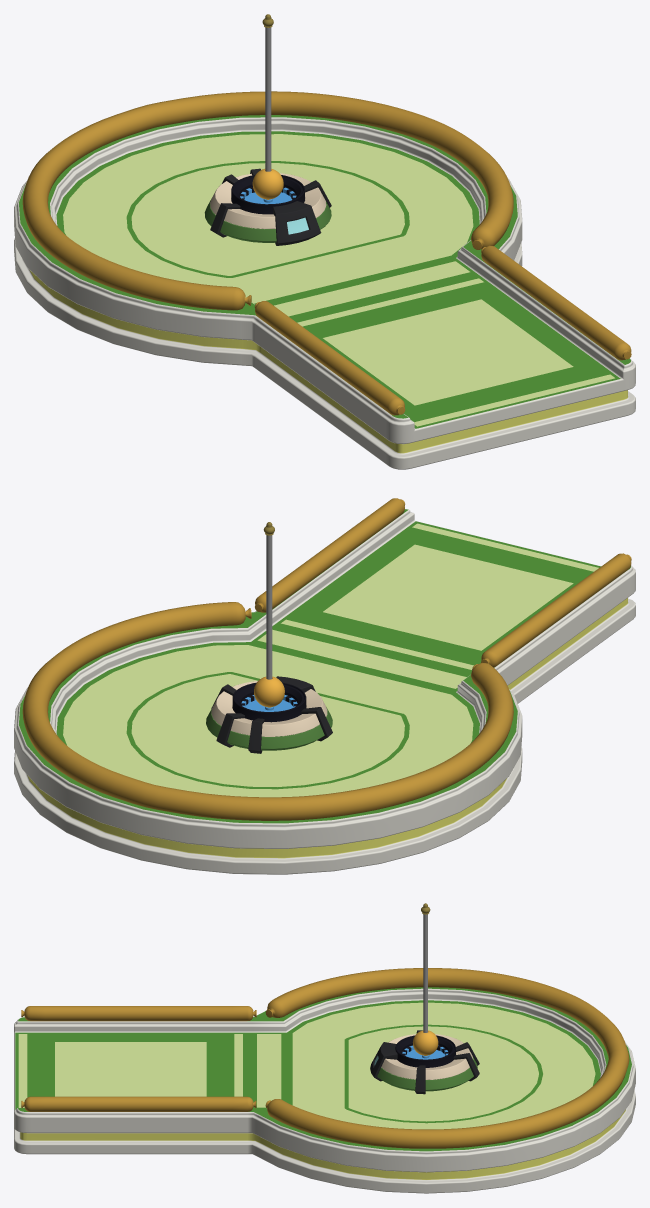
The model's file is SM_Finish_Platform_01.fbx.
3 renders of one model, top to bottom at view 1: azimuth 30°, elevation 25°; view 2: azimuth 150°, elevation 25°; view 3: azimuth 270°, elevation 25°, orthographic. The views are drawn at different scales.
Visible parts, largest first — view 1: SM_Finish_Platform_01, SM_Finish_Platform_Sausage_01; view 2: SM_Finish_Platform_01, SM_Finish_Platform_Sausage_01; view 3: SM_Finish_Platform_01, SM_Finish_Platform_Sausage_01.
Part boxes in pixels (x1,y1,x2,y2): SM_Finish_Platform_01: [14, 14, 635, 469]; SM_Finish_Platform_Sausage_01: [22, 91, 631, 415]; SM_Finish_Platform_01: [14, 509, 635, 874]; SM_Finish_Platform_Sausage_01: [22, 498, 631, 820]; SM_Finish_Platform_01: [14, 903, 635, 1193]; SM_Finish_Platform_Sausage_01: [21, 968, 629, 1148].
Bounding box in the file's own units: 2403 × 1276 × 3569.
